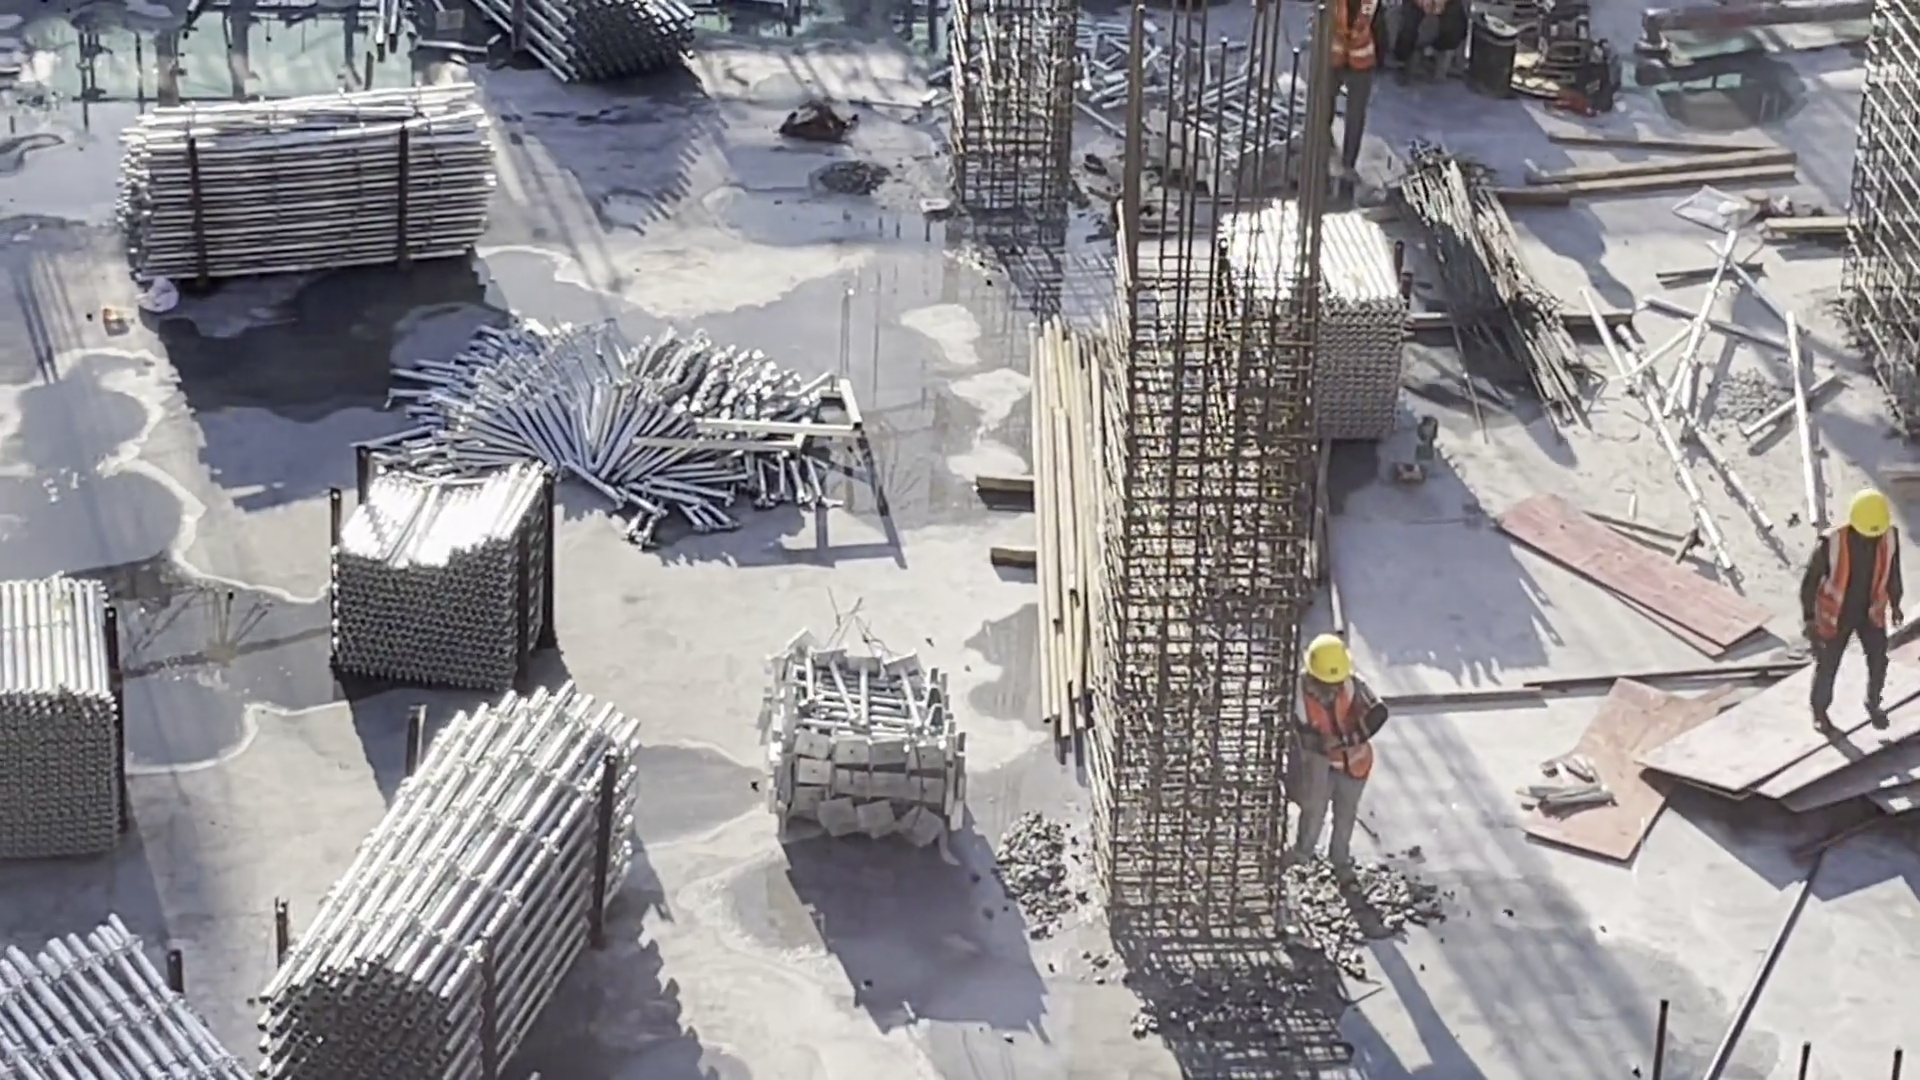board: (1676, 647, 1920, 814)
helmet: (1851, 489, 1897, 539), (1288, 643, 1343, 680)
person: (1793, 486, 1895, 745), (1284, 631, 1386, 886), (1323, 1, 1384, 183)
scaffold: (258, 685, 658, 1069), (396, 317, 888, 545), (125, 75, 485, 304), (319, 423, 580, 669), (745, 619, 992, 851), (1216, 194, 1424, 450), (1075, 19, 1349, 194), (1, 918, 259, 1080), (1, 579, 140, 878), (476, 2, 710, 90)
vest: (1287, 674, 1384, 777), (1813, 529, 1899, 645), (1328, 1, 1384, 70)
